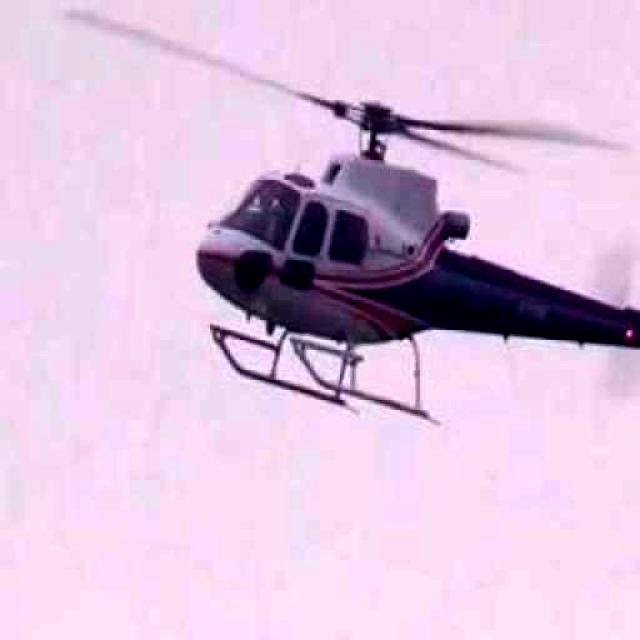drone: (91, 0, 640, 475)
